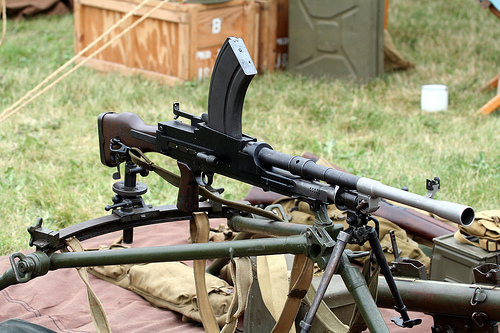rifle: (39, 66, 470, 316)
